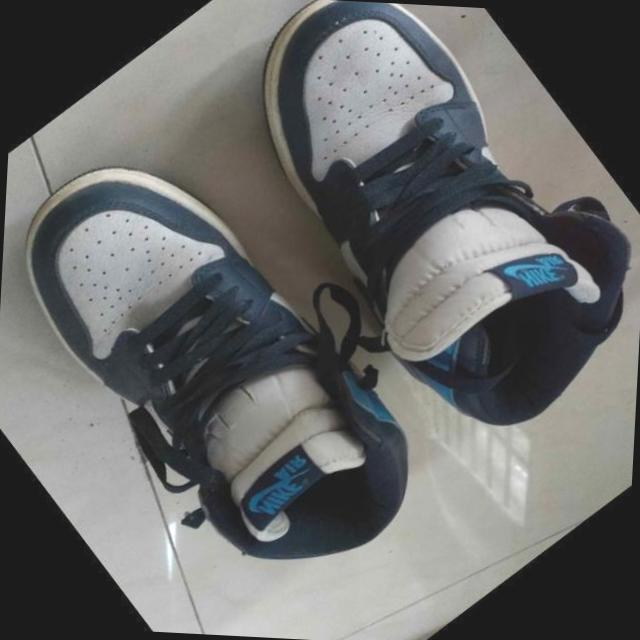nike_fake_jordan: (0, 84, 481, 625), (163, 0, 640, 482)
